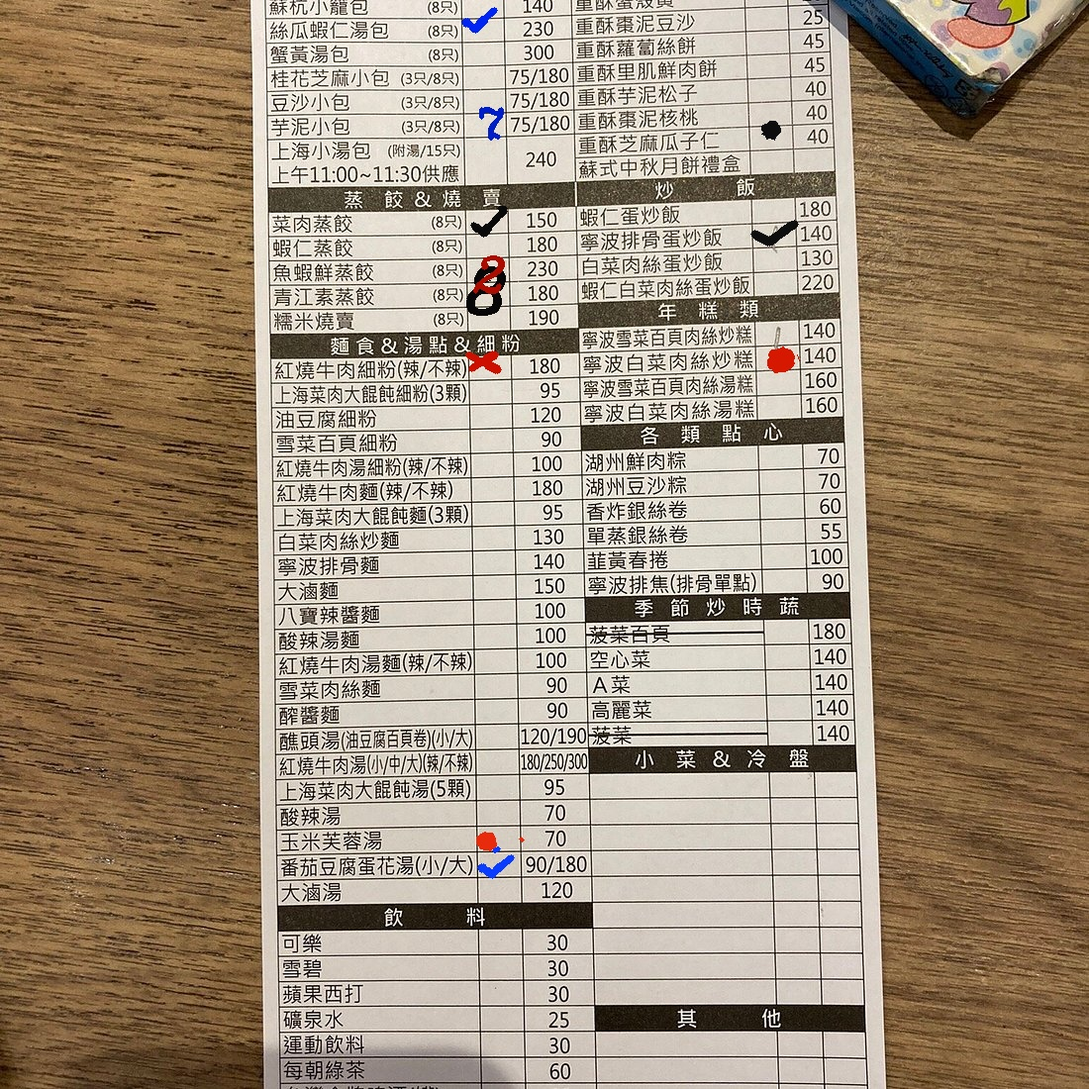marked_circle: (749, 123, 793, 150), (755, 346, 799, 373), (477, 826, 521, 853)
marked_number_2: (468, 257, 512, 285)
marked_number_7: (463, 107, 507, 135)
marked_number_8: (468, 280, 512, 308)
marked_tick: (478, 850, 522, 878), (460, 15, 504, 43), (466, 208, 510, 236), (752, 223, 796, 250)
marked_x: (466, 354, 510, 382)
